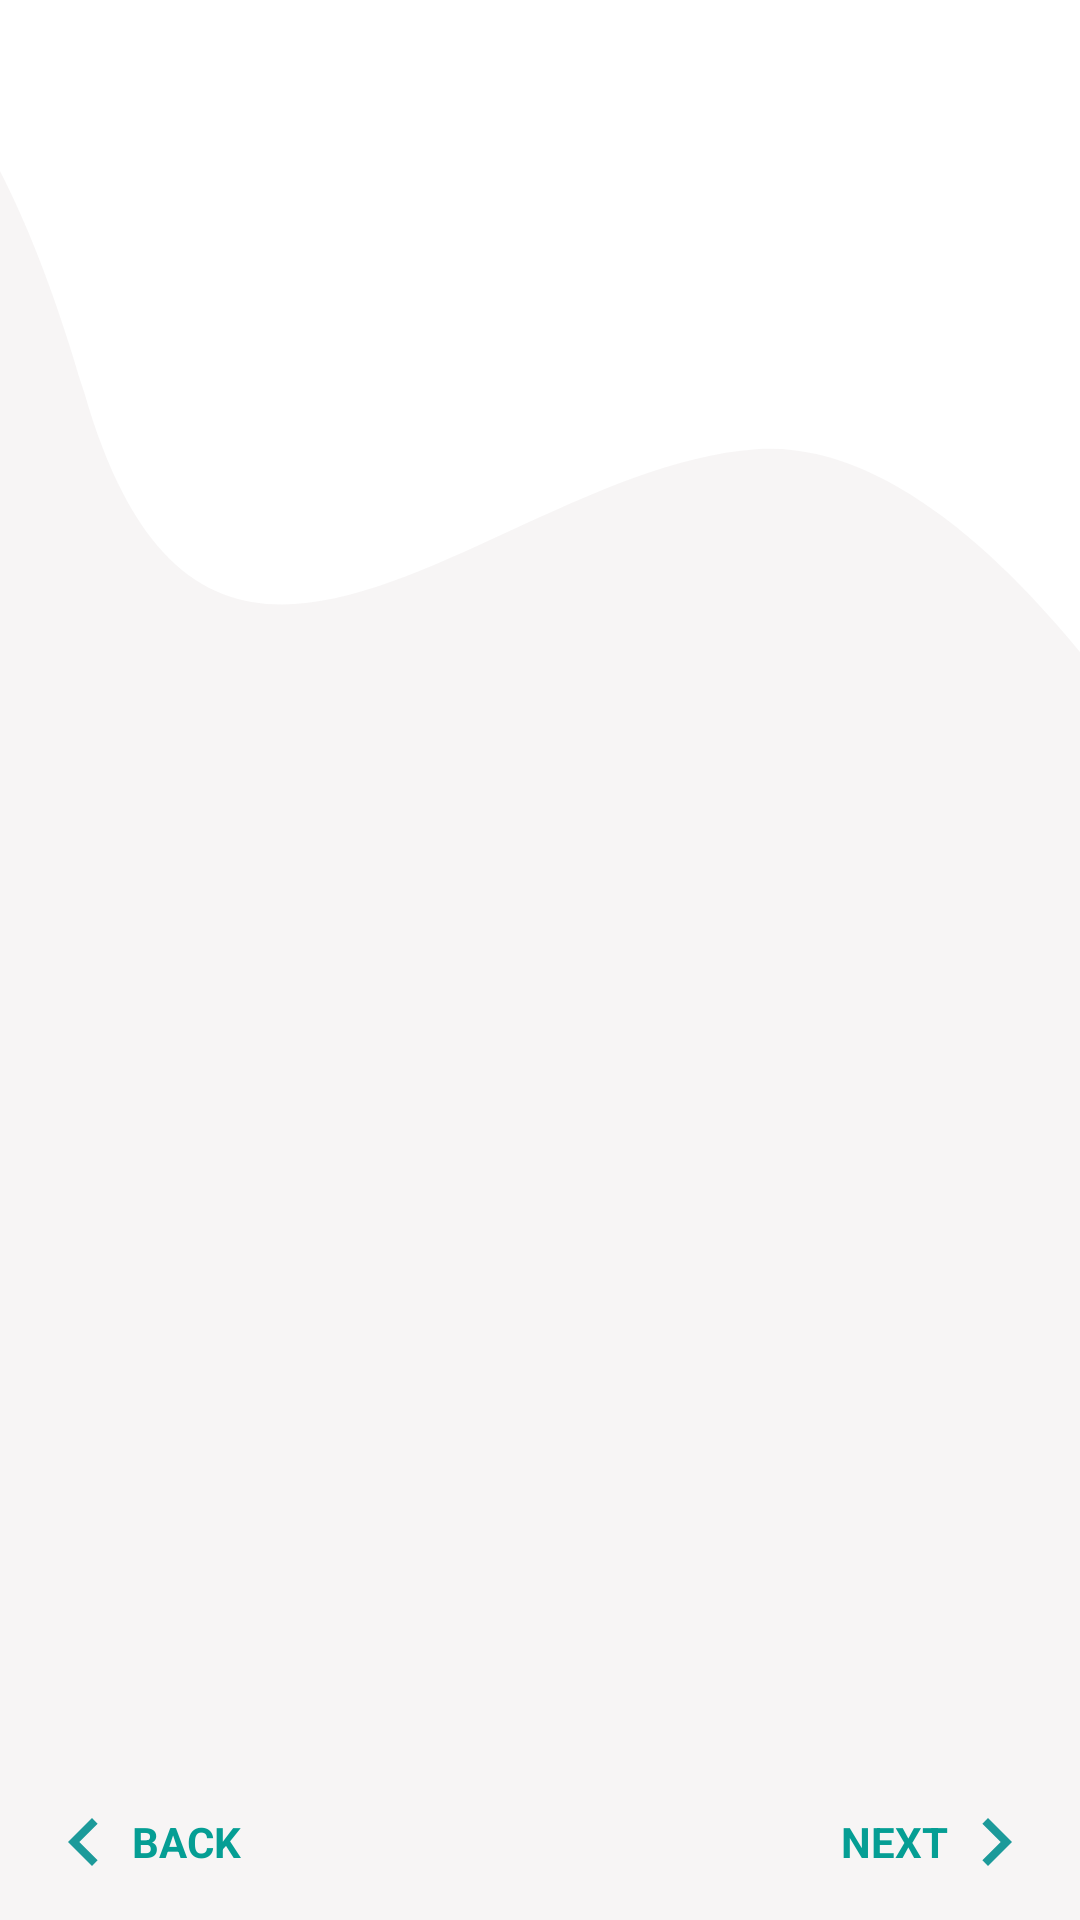

Named icons in this screenshot (1080 x 1920) and their centers, [x,y]:
arrow left: [83,1842]
arrow right: [997,1842]
